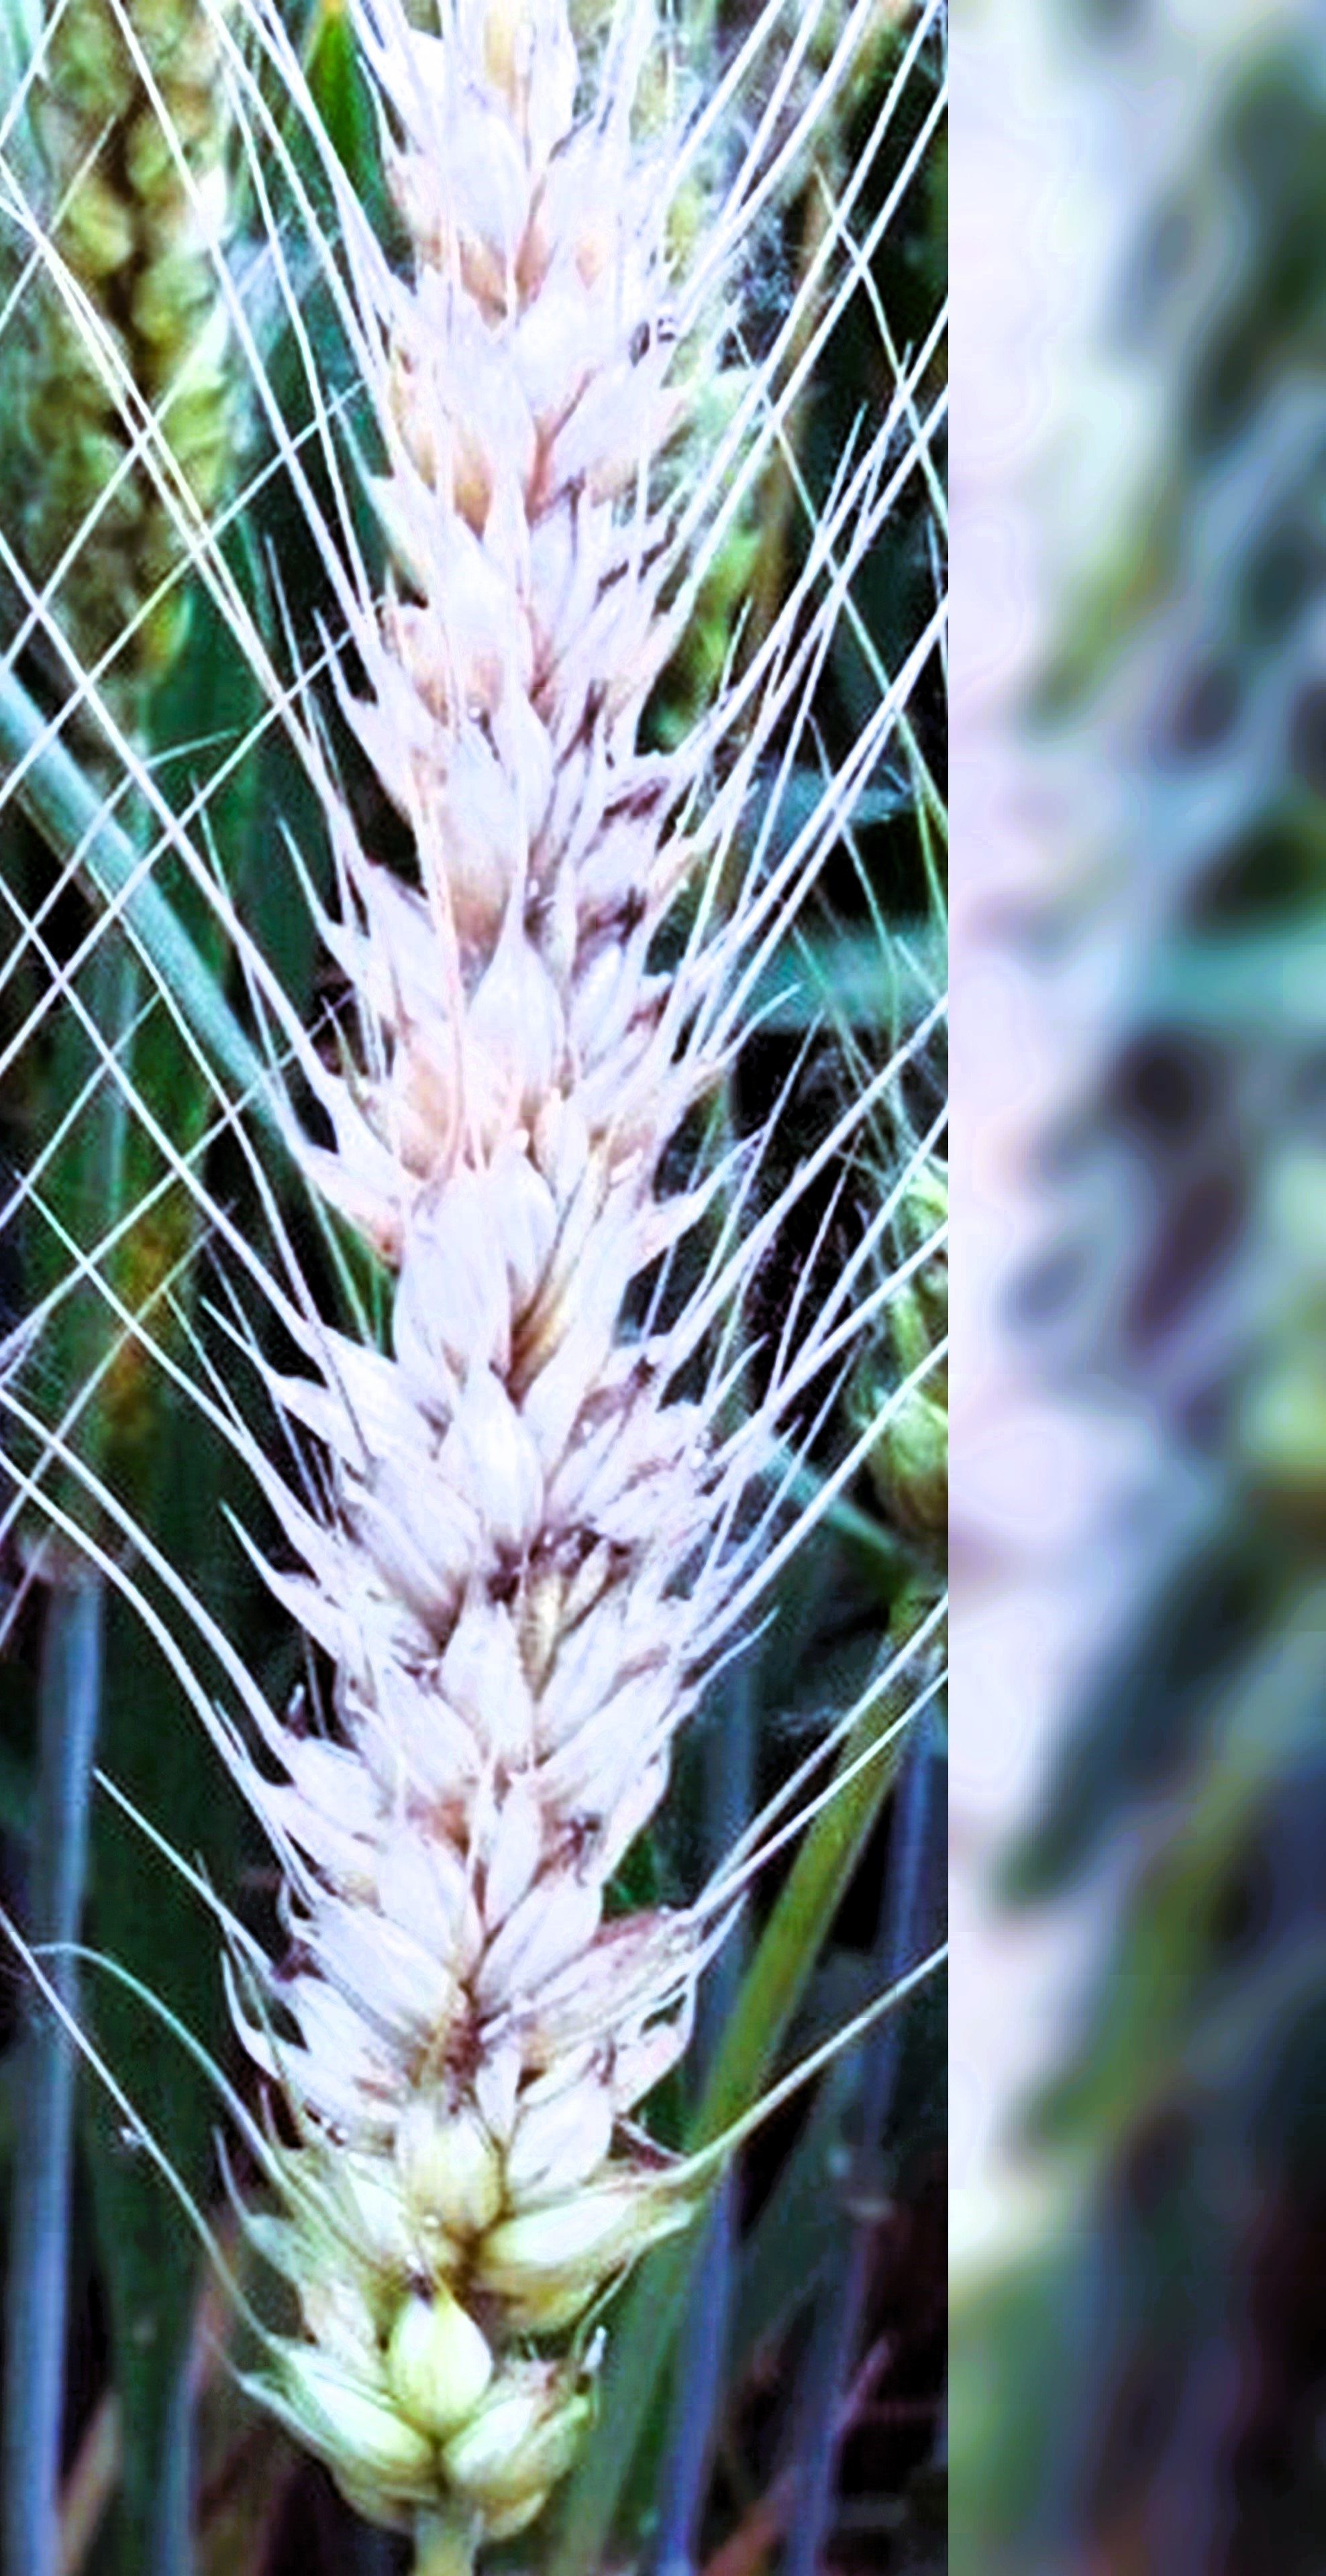Wheat scab: (242, 113, 771, 2529)
